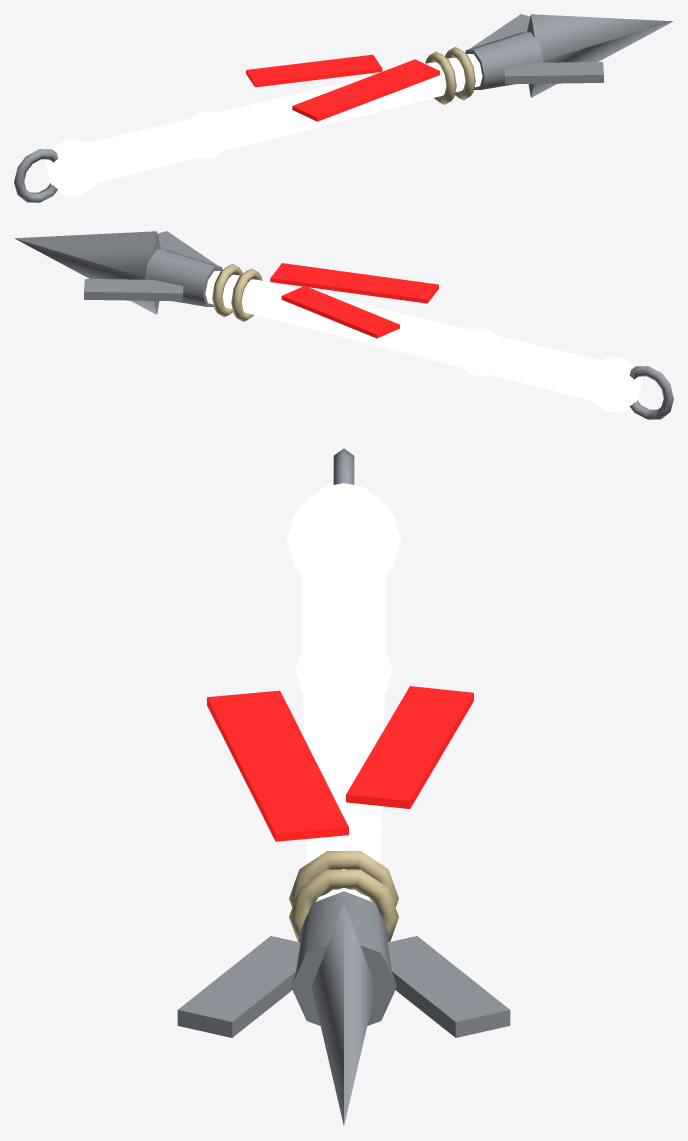
The model's file is whale-harpoon.glb.
The picture shows the model from 3 angles, top to bottom: view 1: azimuth 30°, elevation 25°; view 2: azimuth 150°, elevation 25°; view 3: azimuth 270°, elevation 25°; orthographic projection. The views are drawn at different scales.
Visible parts, largest first — view 1: Mesh_Shaft, Mesh_Head, Mesh_PennantA, Mesh_PennantB, Mesh_Socket, Mesh_Knuckle0, Mesh_BarbP, Mesh_Eye, Mesh_Knuckle1, Mesh_Lashing1, Mesh_Lashing0, Mesh_BarbS; view 2: Mesh_Shaft, Mesh_Head, Mesh_PennantA, Mesh_Socket, Mesh_PennantB, Mesh_Knuckle0, Mesh_BarbS, Mesh_Eye, Mesh_Knuckle1, Mesh_Lashing1, Mesh_Lashing0, Mesh_BarbP; view 3: Mesh_Shaft, Mesh_PennantA, Mesh_PennantB, Mesh_Head, Mesh_BarbP, Mesh_BarbS, Mesh_Socket, Mesh_Knuckle0, Mesh_Lashing0, Mesh_Knuckle1, Mesh_Lashing1.
Part boxes in pixels (x1,y1,x2,y2): Mesh_Shaft: [87, 54, 482, 183]; Mesh_Head: [527, 14, 673, 97]; Mesh_PennantA: [292, 59, 439, 121]; Mesh_PennantB: [246, 54, 382, 87]; Mesh_Socket: [465, 32, 543, 89]; Mesh_Knuckle0: [45, 139, 98, 196]; Mesh_BarbP: [504, 62, 603, 84]; Mesh_Eye: [14, 149, 58, 202]; Mesh_Knuckle1: [190, 111, 225, 159]; Mesh_Lashing1: [425, 51, 456, 104]; Mesh_Lashing0: [445, 47, 475, 100]; Mesh_BarbS: [470, 14, 530, 48]; Mesh_Shaft: [205, 271, 600, 400]; Mesh_Head: [14, 231, 160, 314]; Mesh_PennantA: [270, 263, 438, 303]; Mesh_Socket: [144, 249, 222, 306]; Mesh_PennantB: [281, 286, 399, 338]; Mesh_Knuckle0: [589, 356, 642, 413]; Mesh_BarbS: [84, 279, 183, 301]; Mesh_Eye: [629, 366, 673, 419]; Mesh_Knuckle1: [462, 328, 497, 376]; Mesh_Lashing1: [231, 268, 262, 321]; Mesh_Lashing0: [212, 264, 242, 317]; Mesh_BarbP: [157, 231, 217, 265]; Mesh_Shaft: [300, 515, 387, 901]; Mesh_PennantA: [207, 690, 348, 841]; Mesh_PennantB: [346, 686, 473, 808]; Mesh_Head: [311, 904, 376, 1125]; Mesh_BarbP: [177, 936, 300, 1037]; Mesh_BarbS: [387, 936, 510, 1037]; Mesh_Socket: [291, 891, 396, 1025]; Mesh_Knuckle0: [286, 483, 401, 571]; Mesh_Lashing0: [289, 869, 398, 941]; Mesh_Knuckle1: [295, 622, 392, 693]; Mesh_Lashing1: [289, 851, 398, 907].
Size of the model in its own units: 6.92 by 0.84 by 1.51.
